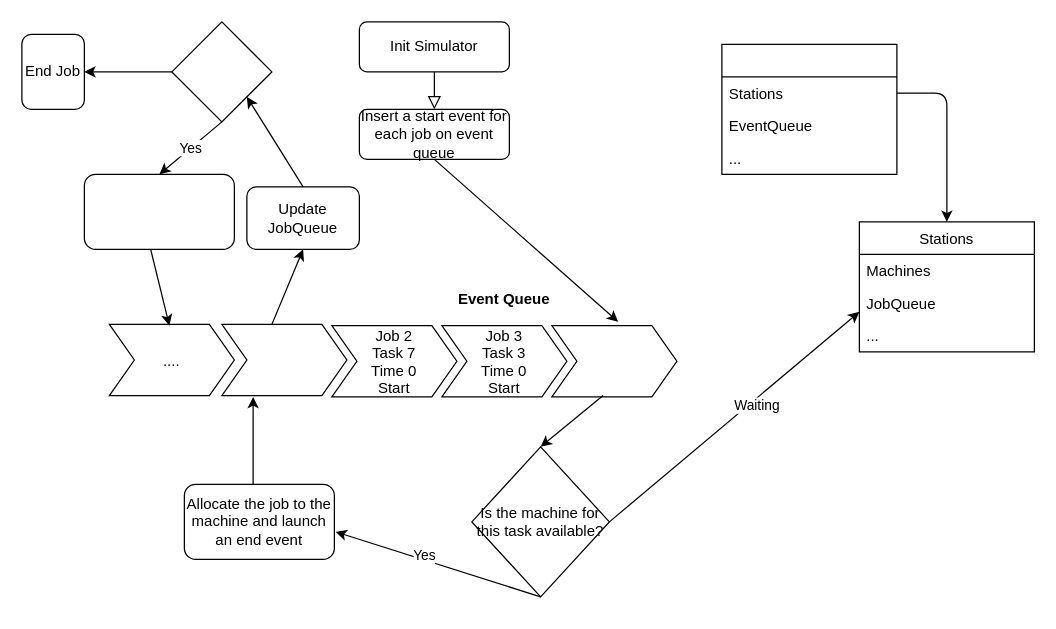
Some shapes in this 1056 by 629 pixel diagram are drawn without their labels. Here are the shapes that lost their labels. From the top down, the box of each, then its label:
(171, 21, 272, 122): There are more tasks on this job?
(721, 43, 897, 174): Simulator
(83, 173, 234, 249): Insert a new start event
(221, 323, 347, 396): Job 1 Task 0 Time 3 End
(551, 324, 677, 397): Job 1 Task 0 Time 0 Start
